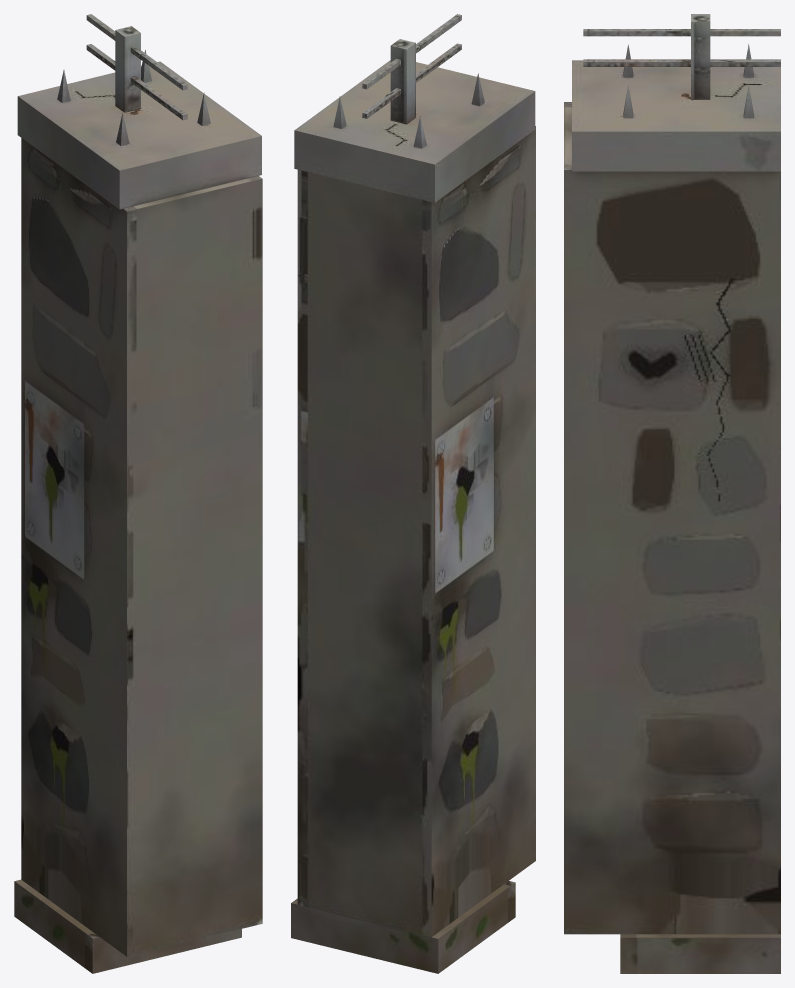
Rendered from muro_lado.glb.
The picture shows the model from 3 angles, left to right: view 1: azimuth 30°, elevation 25°; view 2: azimuth 150°, elevation 25°; view 3: azimuth 270°, elevation 25°; orthographic projection. The views are drawn at different scales.
Visible parts, largest first — view 1: muro_lado_corpo; view 2: muro_lado_corpo; view 3: muro_lado_corpo.
Boxes of the visible parts, bbox=[...] form: muro_lado_corpo: bbox=[14, 14, 262, 973]; muro_lado_corpo: bbox=[291, 14, 535, 973]; muro_lado_corpo: bbox=[564, 14, 780, 973].
Bounding box in the file's own units: 0.22 × 1.26 × 0.27.
1 material, 1 textured.
